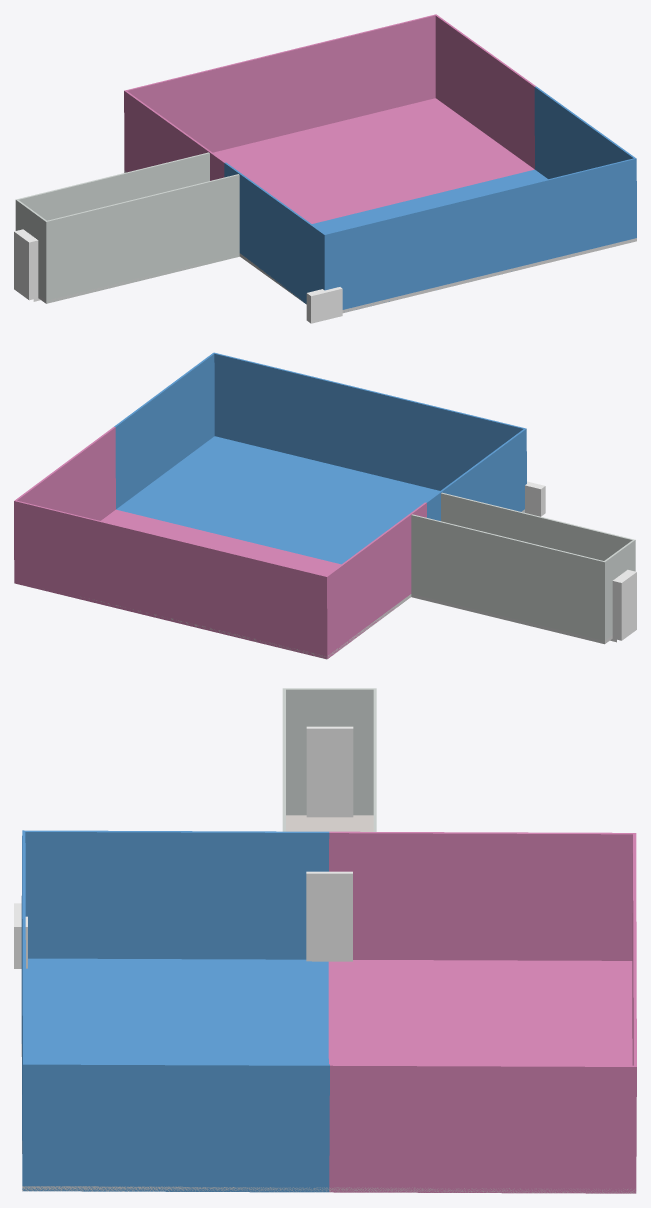
The model's file is habitacion-color.fbx.
3 renders of one model, top to bottom at view 1: azimuth 30°, elevation 25°; view 2: azimuth 150°, elevation 25°; view 3: azimuth 270°, elevation 25°, orthographic. The views are drawn at different scales.
Parts seen in each view (by area): view 1: Room, Floor, Room.001, CTRL_Hole.001, Baseboard, CTRL_Hole.002, Baseboard.001; view 2: Room, Floor, Room.001, CTRL_Hole.001, Baseboard.001, CTRL_Hole.002, Baseboard; view 3: Room, Floor, Room.001, CTRL_Hole.001, CTRL_Hole, Baseboard, Floor.001.
Boxes of the visible parts, bbox=[...] form: Room: bbox=[124, 14, 636, 309]; Floor: bbox=[213, 98, 547, 233]; Room.001: bbox=[15, 152, 239, 303]; CTRL_Hole.001: bbox=[14, 229, 38, 300]; Baseboard: bbox=[124, 170, 636, 313]; CTRL_Hole.002: bbox=[306, 287, 342, 323]; Baseboard.001: bbox=[38, 255, 237, 303]; Room: bbox=[14, 352, 526, 659]; Floor: bbox=[101, 436, 439, 575]; Room.001: bbox=[411, 492, 635, 643]; CTRL_Hole.001: bbox=[612, 570, 636, 640]; Baseboard.001: bbox=[411, 594, 612, 644]; CTRL_Hole.002: bbox=[525, 481, 545, 516]; Baseboard: bbox=[14, 509, 524, 659]; Room: bbox=[21, 830, 636, 1193]; Floor: bbox=[26, 958, 632, 1065]; Room.001: bbox=[282, 688, 376, 831]; CTRL_Hole.001: bbox=[306, 726, 353, 817]; CTRL_Hole: bbox=[306, 871, 352, 961]; Baseboard: bbox=[21, 1044, 636, 1193]; Floor.001: bbox=[286, 815, 373, 831].
Bounding box in the file's own units: 1961 × 315 × 1337.
